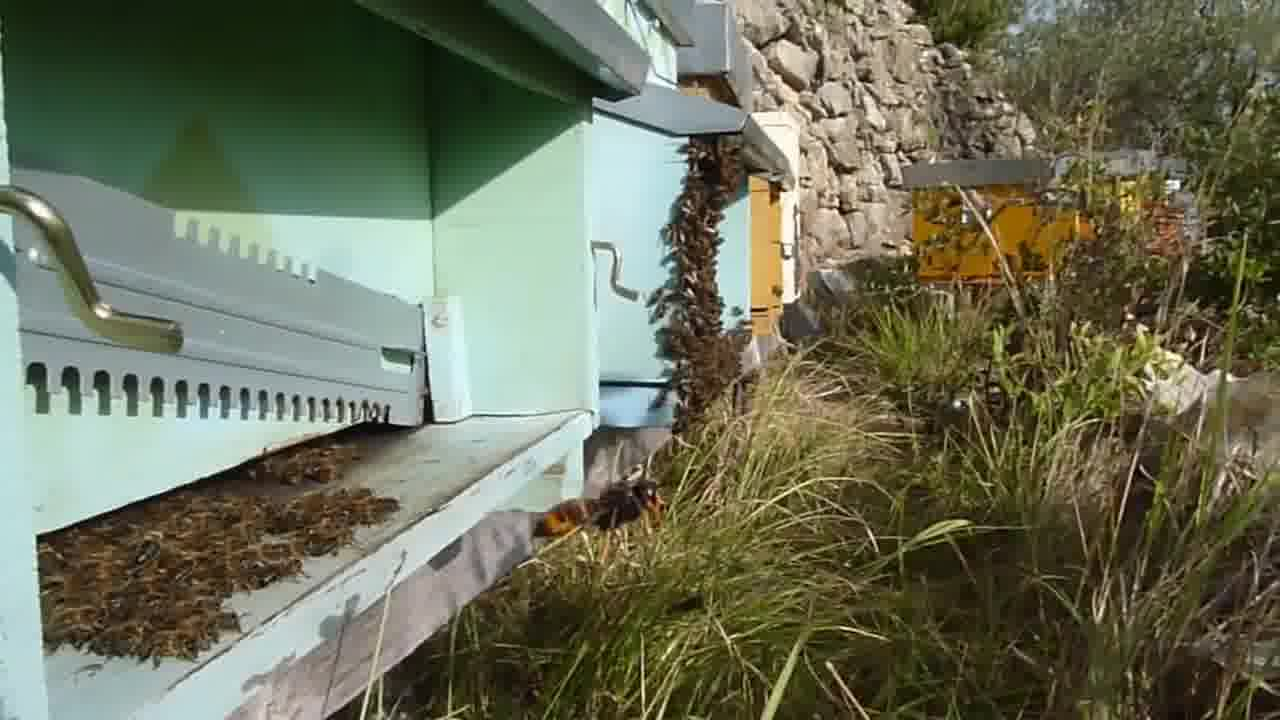bee: (41, 533, 177, 657), (177, 491, 247, 592), (246, 495, 335, 572), (651, 294, 754, 351), (665, 211, 729, 292), (668, 136, 738, 209), (258, 440, 353, 488), (667, 355, 729, 428), (186, 592, 248, 649), (339, 488, 405, 530)
hornet: (526, 471, 656, 547)
